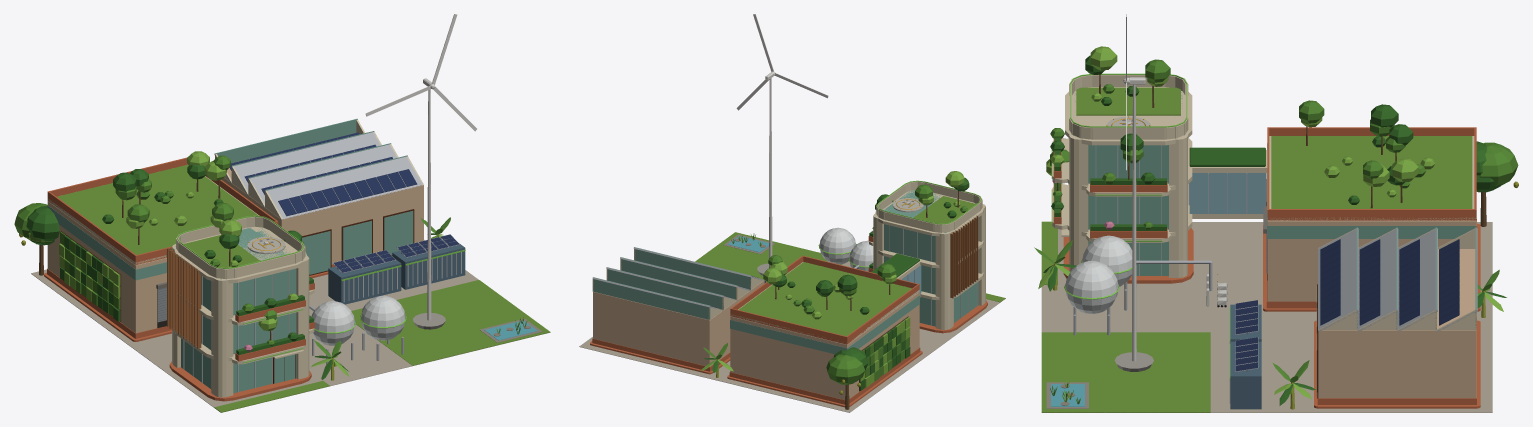
File: factory_4.glb
3 renders of one model, left to right at view 1: azimuth 30°, elevation 25°; view 2: azimuth 150°, elevation 25°; view 3: azimuth 270°, elevation 25°, orthographic. The views are drawn at different scales.
Parts seen in each view (by area): view 1: body, windows; view 2: body, windows; view 3: body, windows.
Boxes of the visible parts, x1=… form: body: x1=14, y1=14, x2=550, y2=412; windows: x1=157, y1=215, x2=465, y2=363; body: x1=579, y1=14, x2=1005, y2=412; windows: x1=818, y1=180, x2=981, y2=267; body: x1=1034, y1=14, x2=1518, y2=412; windows: x1=1051, y1=73, x2=1267, y2=379.
Size of the model in its own units: 34.22 by 28.44 by 34.29.
